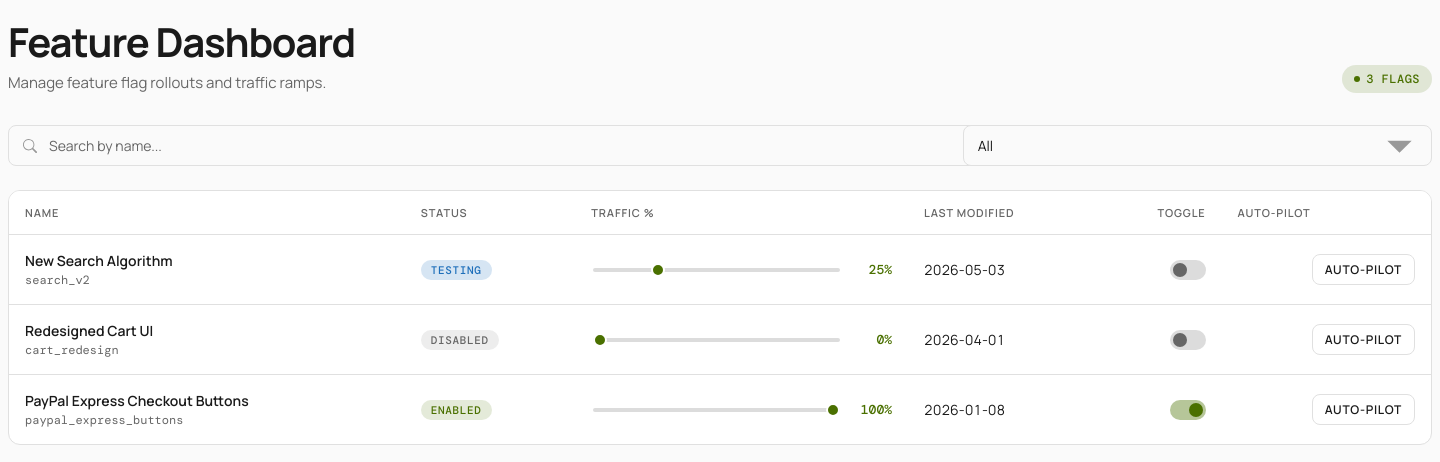
Test: FeatureListScreen › shows the empty-filter message when nothing matches
Type "zzznotreal" into the field named "Search features by name".
click(505, 146); type("zzznotreal")  # box [8,125,1003,166]
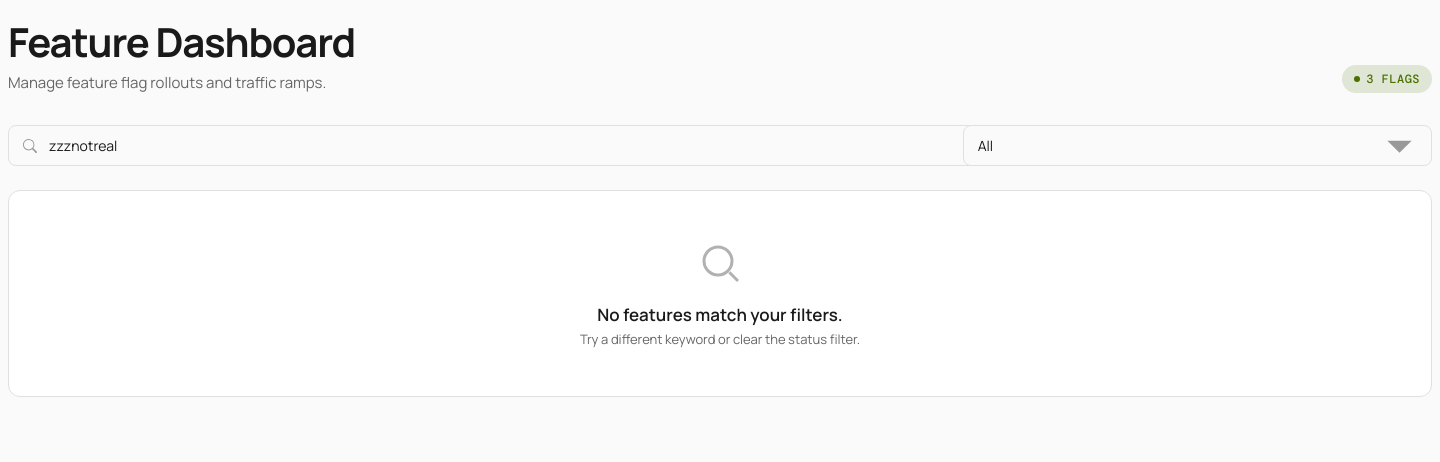
Now the heading "No features match your filters." is shown, box [597,303,843,326]
